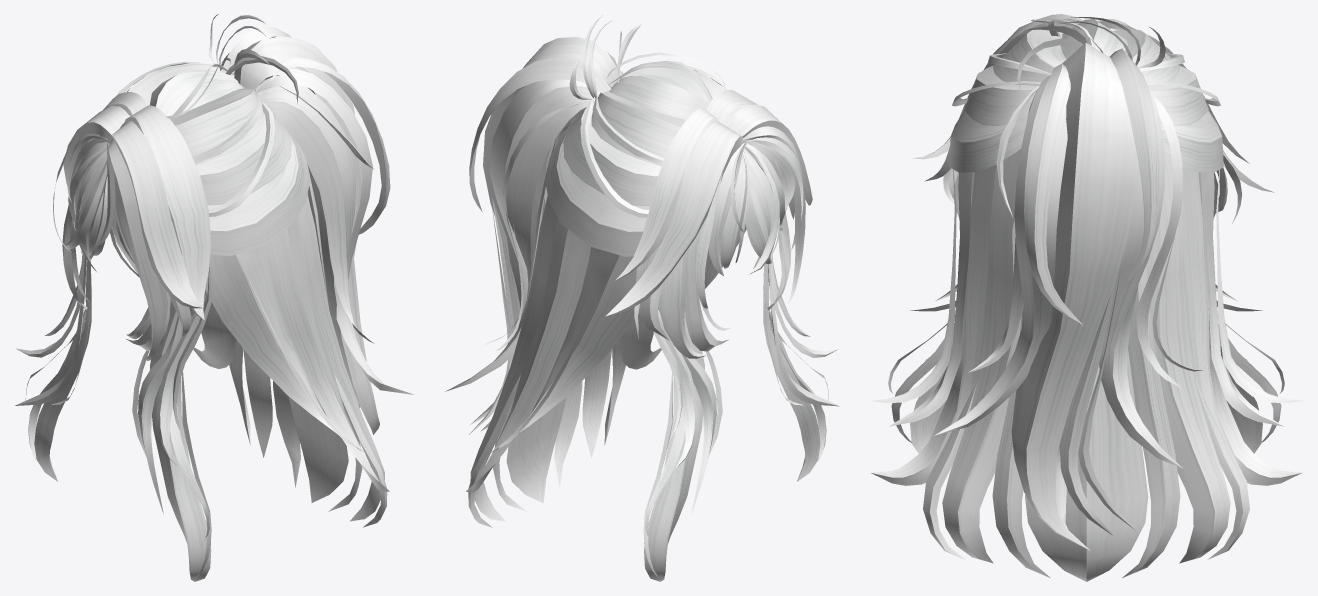
3 views of the same model, side by side, from view 1: azimuth 30°, elevation 25°; view 2: azimuth 150°, elevation 25°; view 3: azimuth 270°, elevation 25° (orthographic). The views are drawn at different scales.
Parts seen in each view (by area): view 1: Handle1; view 2: Handle1; view 3: Handle1.
Part boxes in pixels (x1=…): Handle1: x1=15, y1=14, x2=414, y2=581; Handle1: x1=445, y1=14, x2=839, y2=581; Handle1: x1=869, y1=14, x2=1303, y2=581.
Size of the model in its own units: 2.3 by 3.64 by 2.67.
